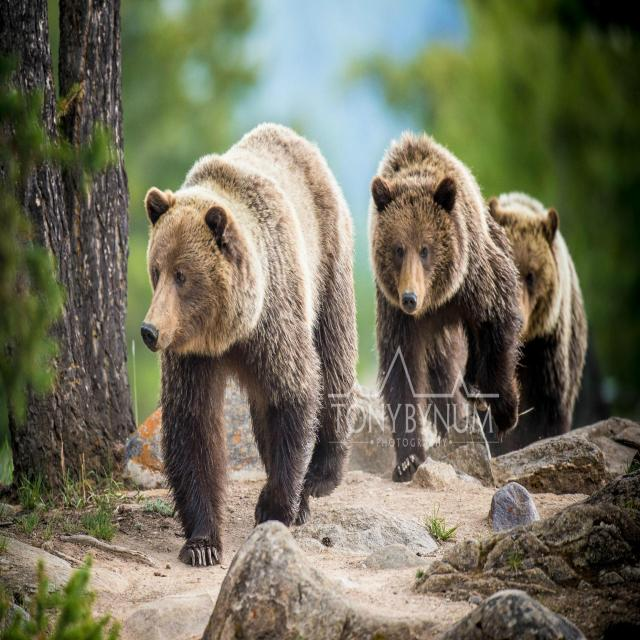Bear: (140, 123, 358, 569), (369, 133, 531, 484), (487, 192, 589, 440)
